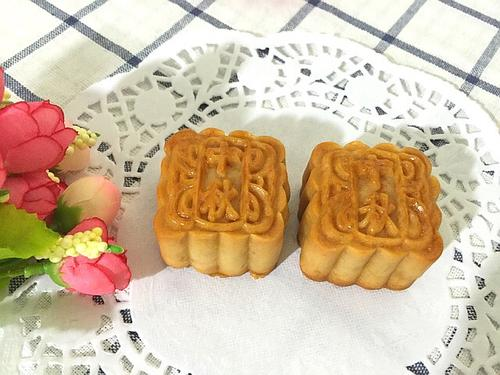MoonCake: (297, 138, 441, 292), (153, 128, 291, 278)
